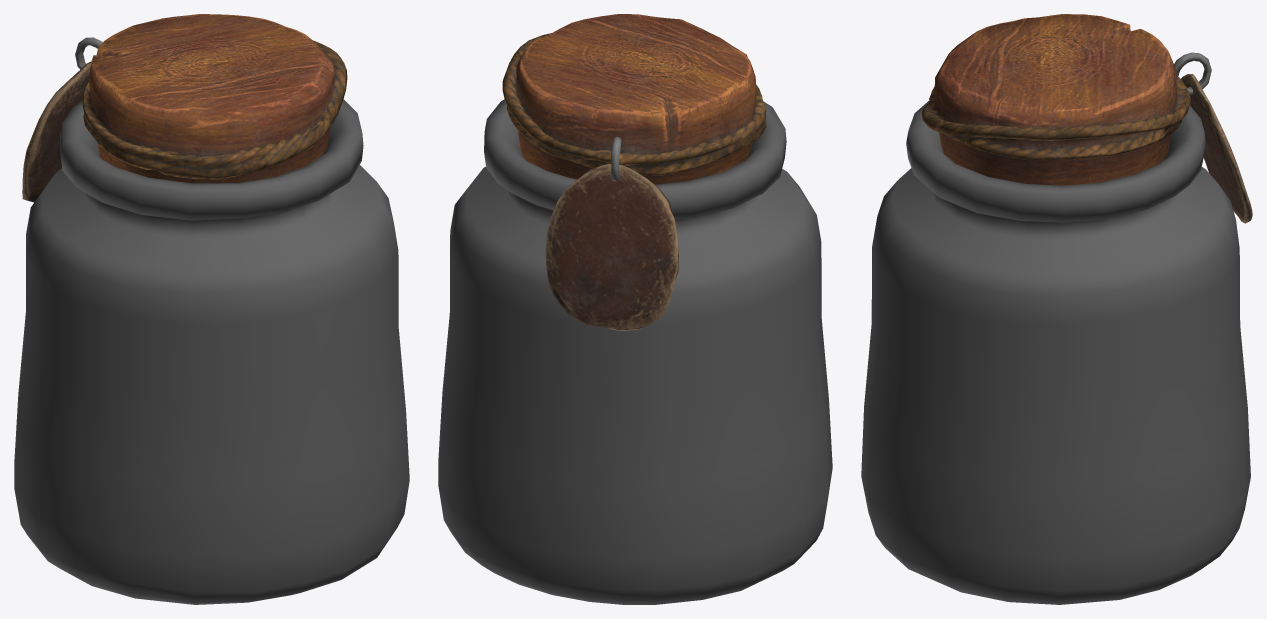
The model's file is potion_bottle.glb.
The picture shows the model from 3 angles, left to right: view 1: azimuth 30°, elevation 25°; view 2: azimuth 150°, elevation 25°; view 3: azimuth 270°, elevation 25°; orthographic projection.
Visible parts, largest first — view 1: Object_3, Object_2; view 2: Object_3, Object_2; view 3: Object_3, Object_2.
Boxes of the visible parts, x1,y1,x2,y2 form: Object_3: (14,99,409,604); Object_2: (22,14,347,202); Object_3: (438,99,832,604); Object_2: (502,14,766,331); Object_3: (861,100,1250,604); Object_2: (922,14,1252,223).
Bounding box in the file's own units: 0.1919 × 0.2546 × 0.1887.
3 materials, 2 textured.
